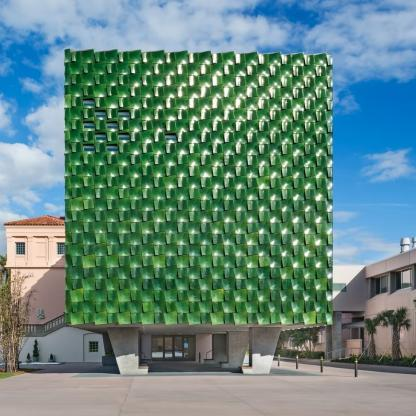Building Outline: (64, 48, 333, 374)
Decorative Shell: (64, 48, 333, 326)
Door: (163, 335, 184, 362)
Door Hole: (139, 327, 252, 374)
Facade: (65, 55, 333, 374)
Floor: (65, 55, 333, 146), (65, 236, 333, 308), (65, 155, 333, 227)
Floor Slab: (65, 308, 333, 317), (65, 146, 333, 155), (65, 227, 333, 236)
Glass Wall: (184, 335, 196, 362), (151, 335, 163, 362)
Ground Floor: (103, 317, 249, 375)
Pillar: (107, 327, 148, 374), (242, 327, 282, 374)
Window: (118, 132, 131, 140), (83, 143, 95, 151), (83, 98, 95, 106), (118, 109, 130, 117), (95, 132, 107, 140), (107, 143, 119, 151), (165, 133, 178, 140), (106, 121, 119, 128), (95, 110, 107, 117), (83, 121, 95, 128)
